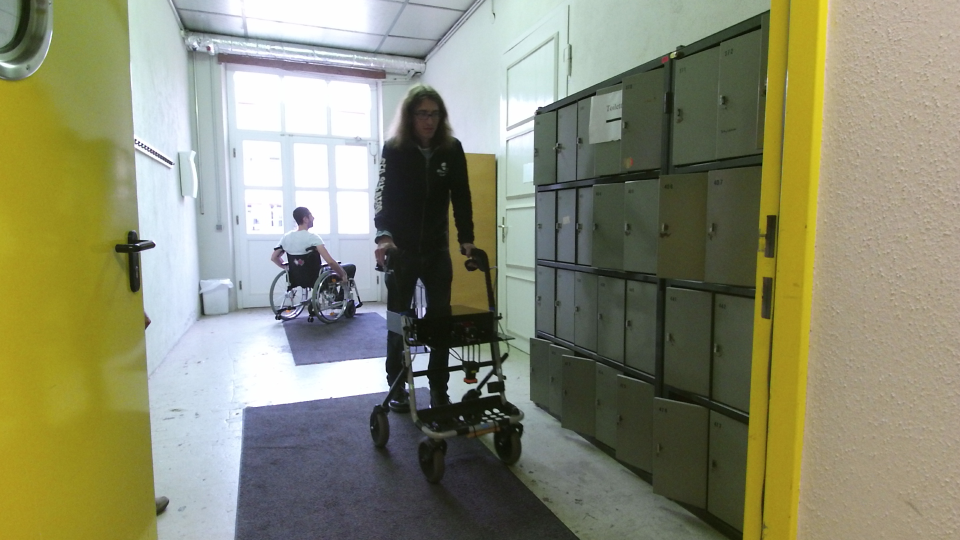wheelchair: (264, 200, 365, 328)
